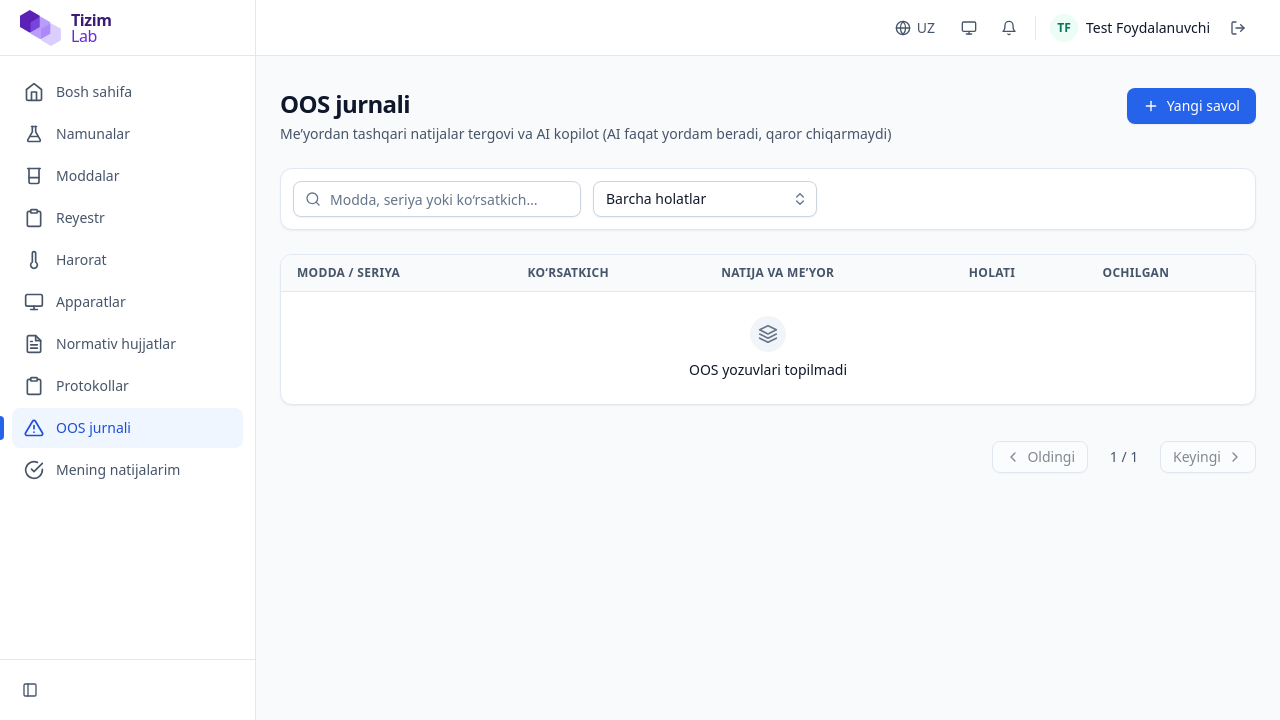
Test: P19: AI kopilot chat › "Yangi savol": erkin suhbat yaratiladi va chat sahifasi ochiladi
The width and height of the screenshot is (1280, 720).
Click the button "Yangi savol".
click(1191, 106)  # box [1127,88,1256,124]
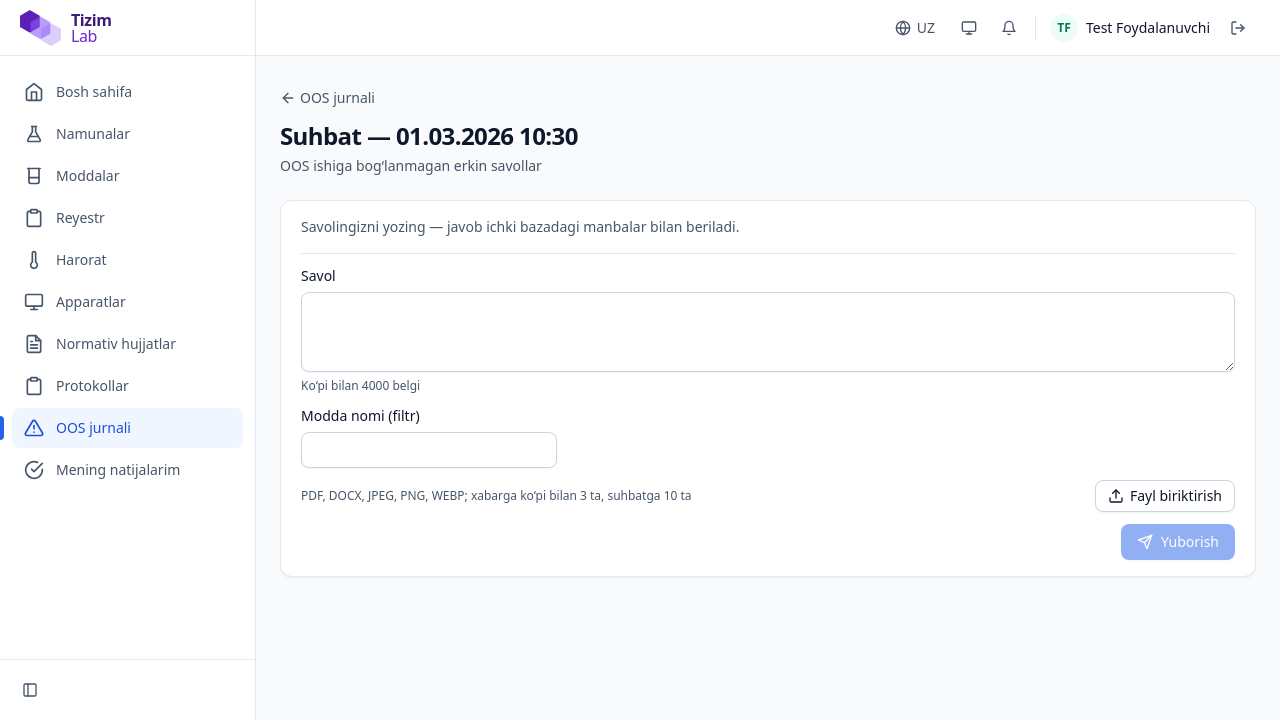
Expected: the field labelled "Modda nomi (filtr)" is shown, [301,432,557,468]
